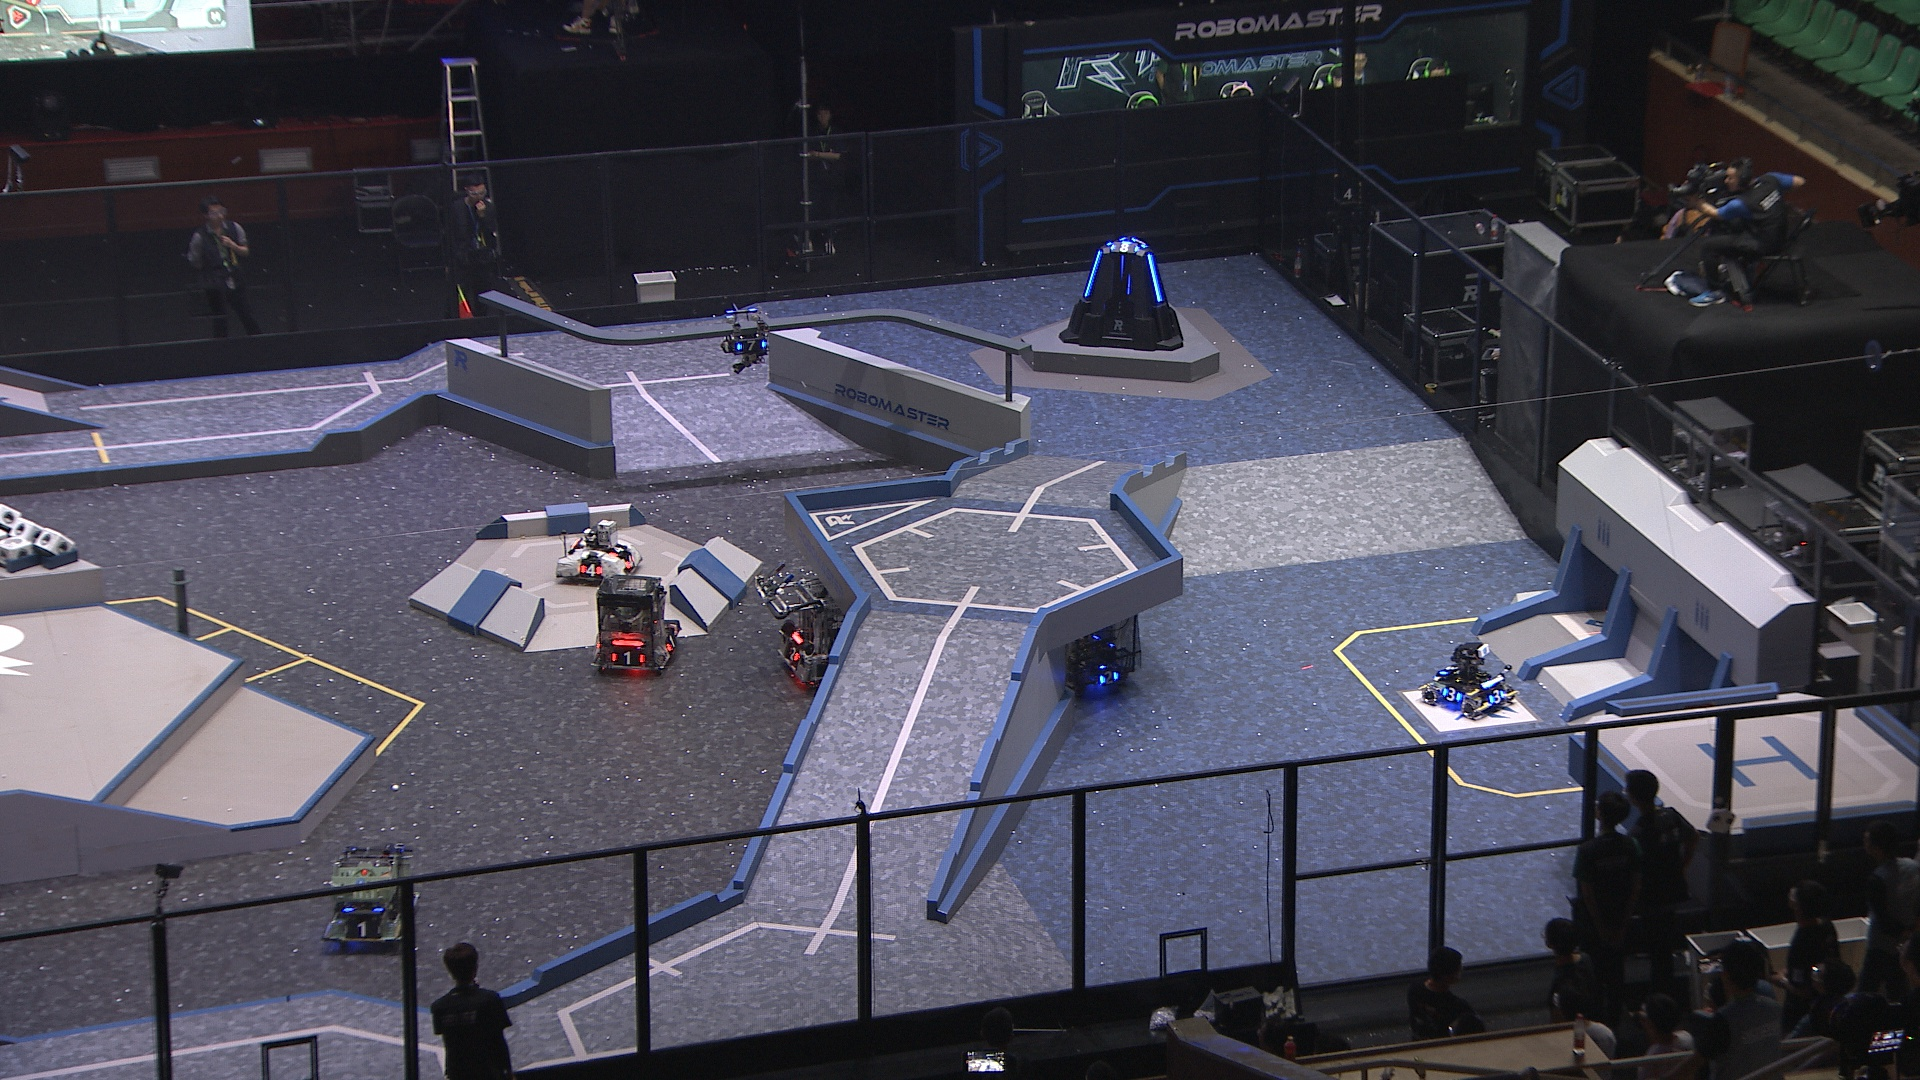armor: (1083, 249, 1102, 301), (1145, 252, 1163, 305), (344, 915, 380, 942), (608, 647, 647, 666), (1095, 669, 1122, 687), (1109, 240, 1141, 255), (736, 339, 767, 353), (580, 560, 604, 579), (1486, 687, 1506, 704), (785, 646, 802, 665), (1441, 687, 1462, 702), (665, 633, 679, 654), (608, 543, 626, 559), (1436, 665, 1456, 676), (622, 553, 636, 570)
base: (1055, 237, 1185, 351)
car: (773, 574, 882, 694), (1036, 585, 1139, 699), (320, 844, 419, 948), (589, 571, 684, 675), (1414, 644, 1522, 721), (553, 520, 644, 583)
watcher: (719, 309, 771, 372)
